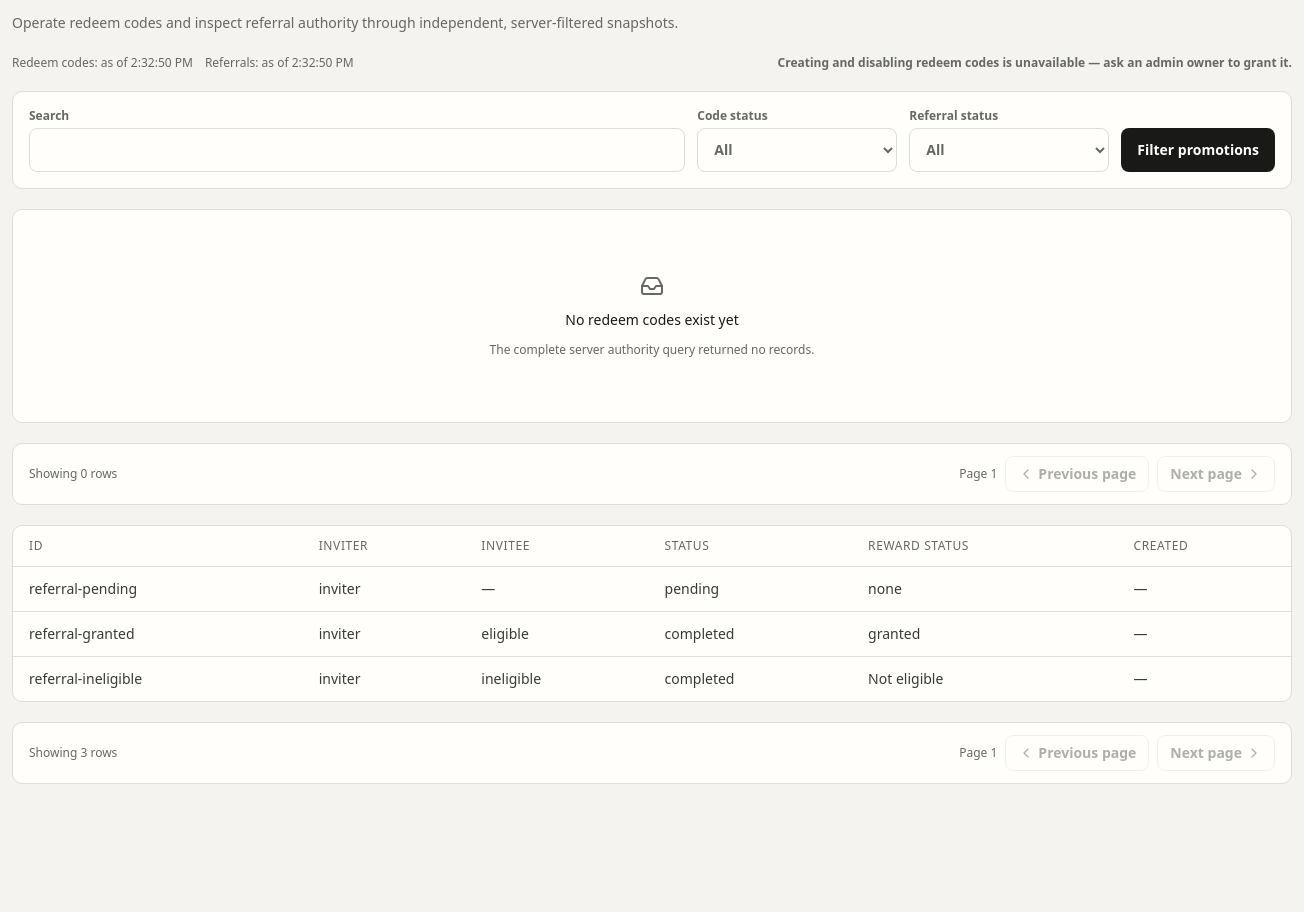
Test: Promo table column identity › filters completed referrals while keeping granted and ineligible rewards distinct
Select "completed" in the dropdown labelled "Referral status" at x=1009, y=150, box top-left (909, 128), bottom-right (1109, 172)
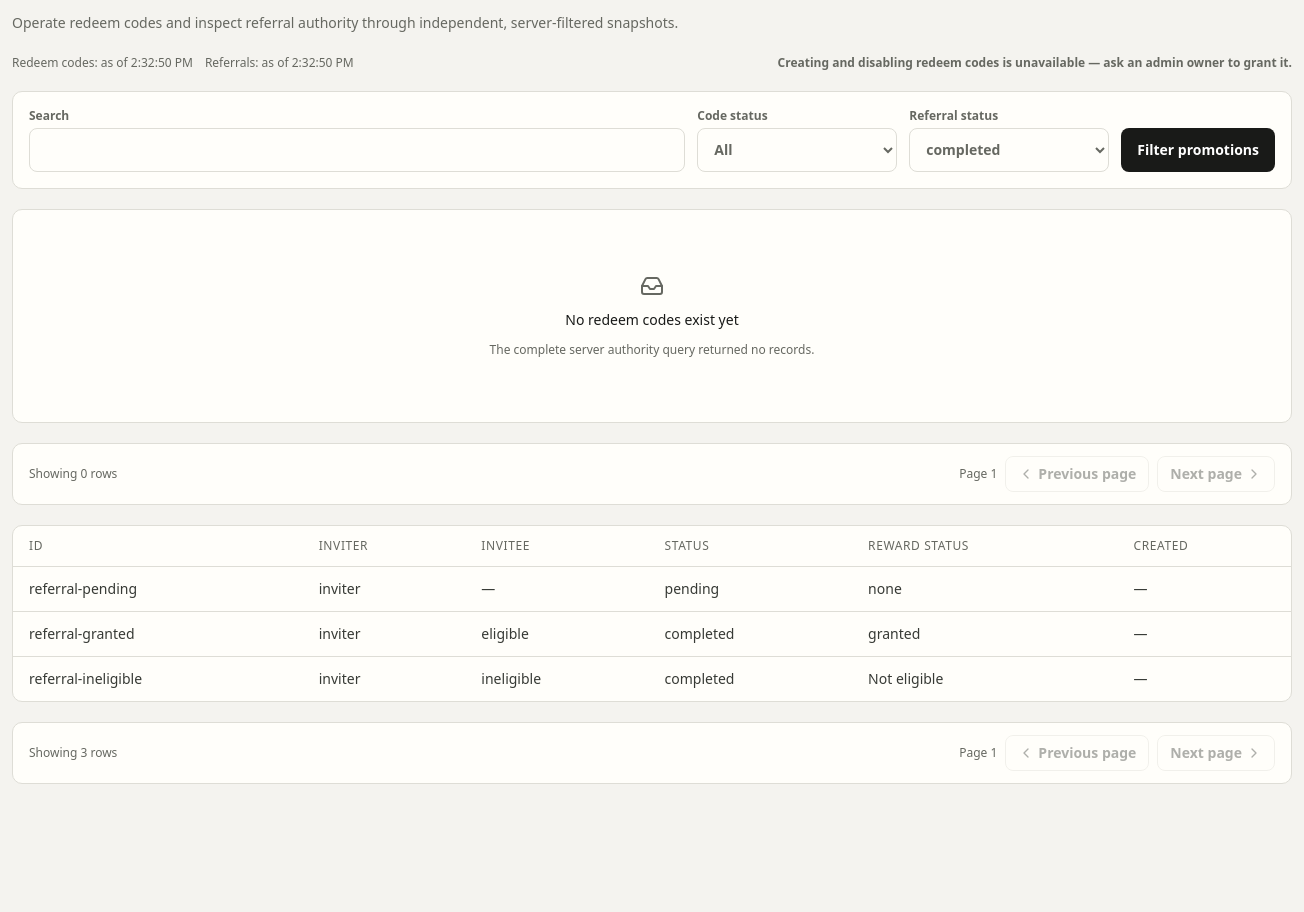
Click the button "Filter promotions" at x=1198, y=150, box top-left (1121, 128), bottom-right (1275, 172)
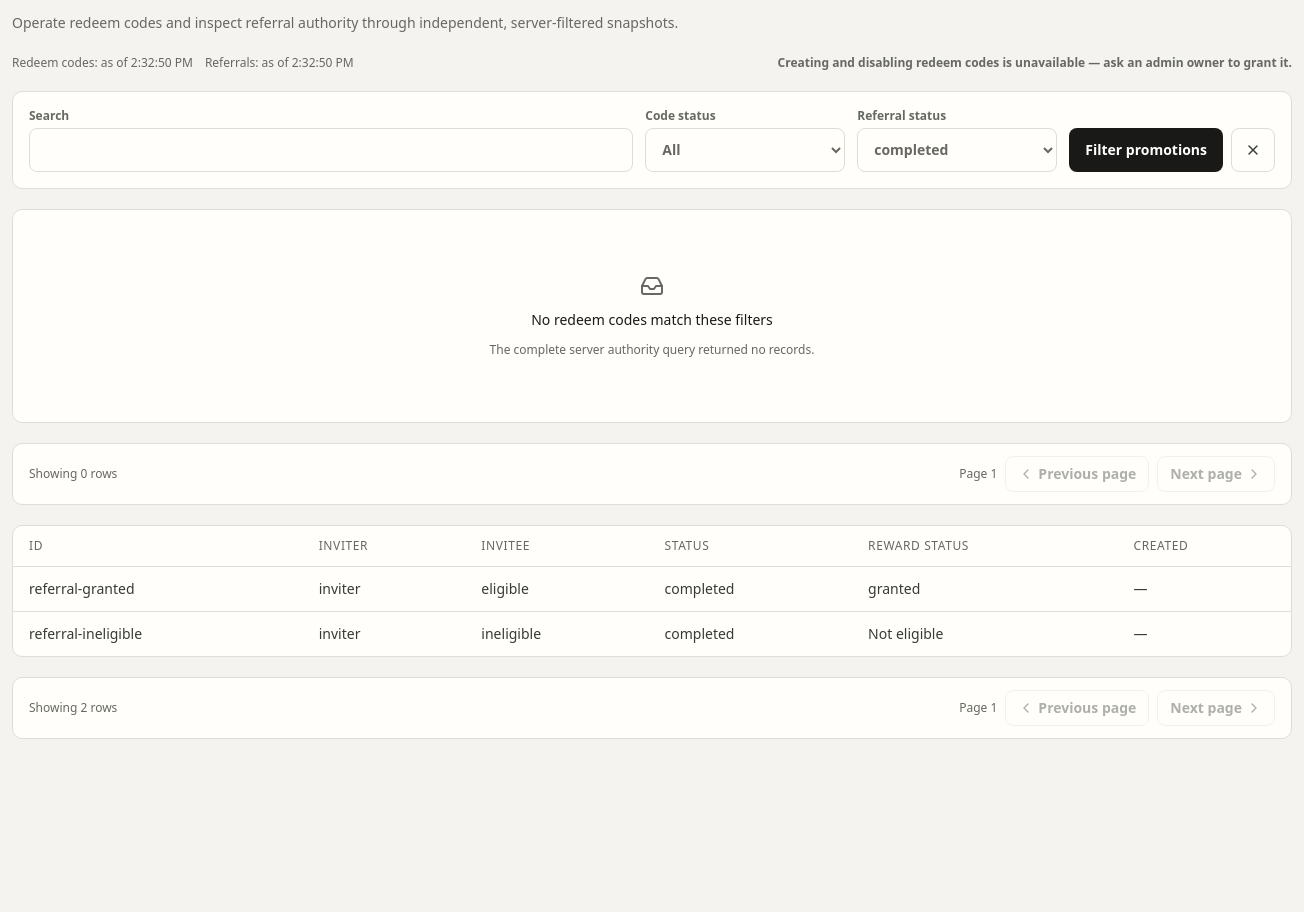
Select "pending" in the dropdown labelled "Referral status" at x=957, y=150, box top-left (857, 128), bottom-right (1057, 172)
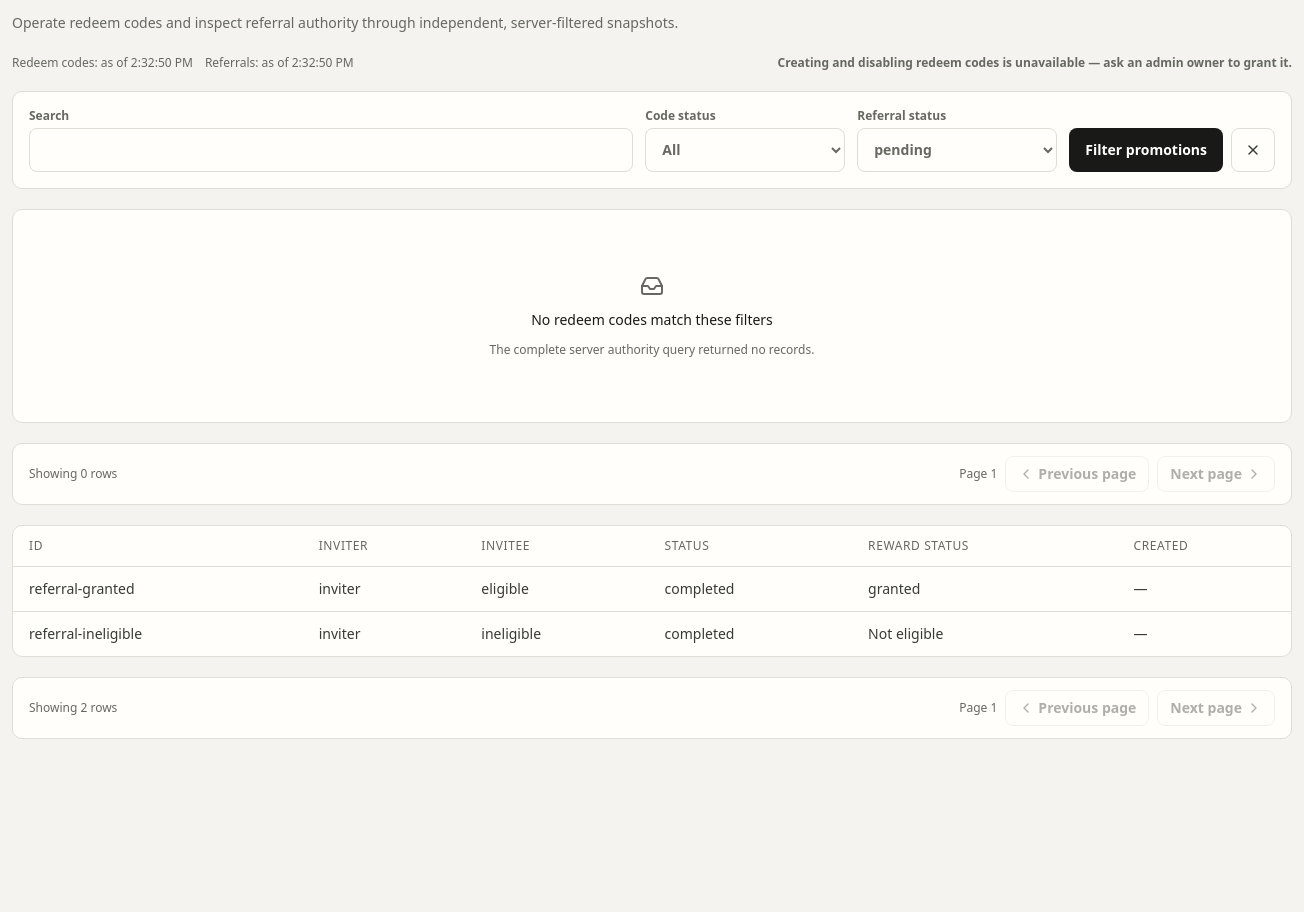
Click the button "Filter promotions" at x=1146, y=150, box top-left (1069, 128), bottom-right (1223, 172)
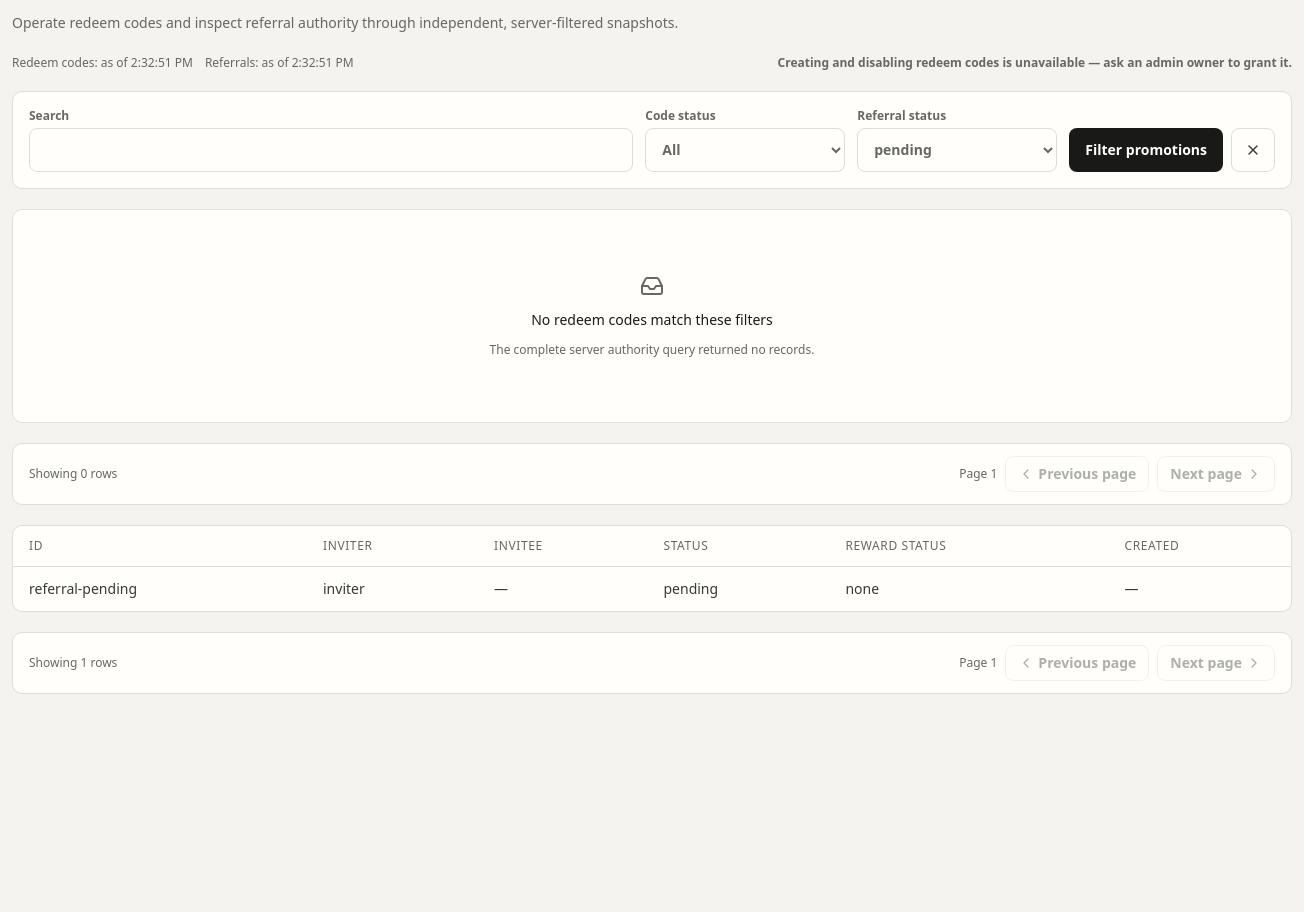
Now the row "referral-pending inviter — pending none —" is shown, box top-left (13, 567), bottom-right (1291, 611)
